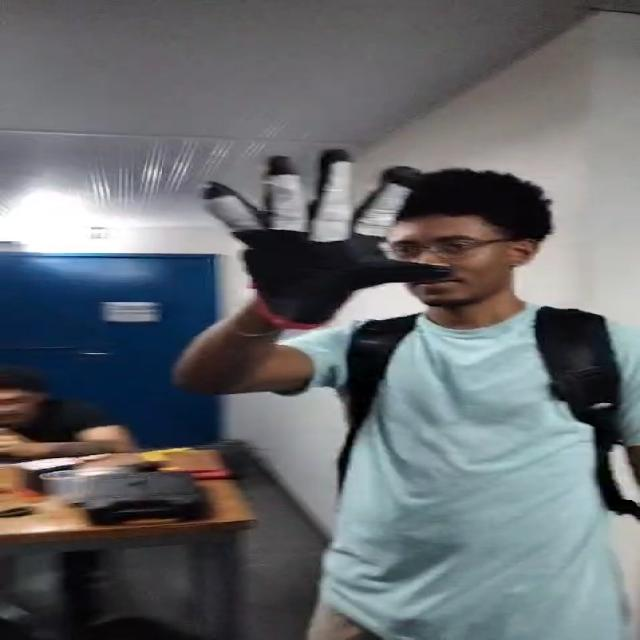Gloves: (204, 147, 439, 324)
